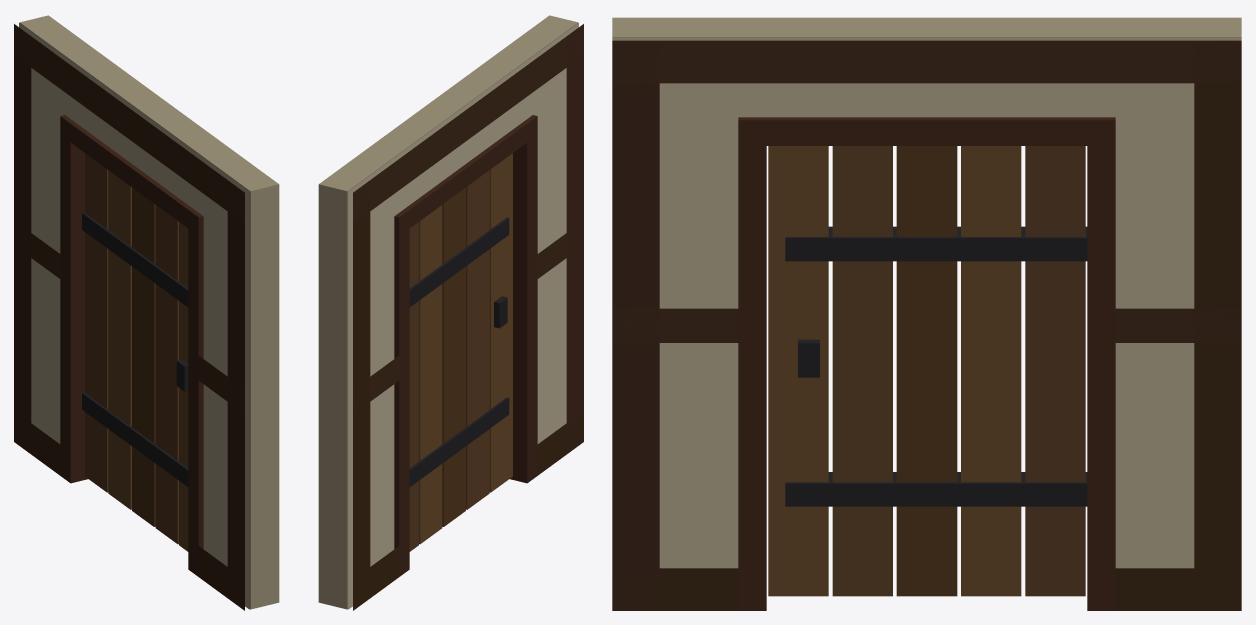
File: wall-halftimber-door.glb
3 views of the same model, side by side, from view 1: azimuth 30°, elevation 25°; view 2: azimuth 150°, elevation 25°; view 3: azimuth 270°, elevation 25° (orthographic). The views are drawn at different scales.
Parts seen in each view (by area): view 1: wall-halftimber-door; view 2: wall-halftimber-door; view 3: wall-halftimber-door.
Boxes of the visible parts, x1,y1,x2,y2 form: wall-halftimber-door: (14, 15, 279, 610); wall-halftimber-door: (318, 15, 583, 610); wall-halftimber-door: (612, 17, 1241, 610).
Bounding box in the file's own units: 0.1 × 1 × 1.
